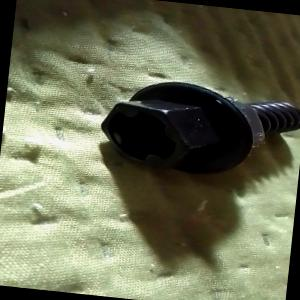parafuso: (94, 73, 300, 184)
